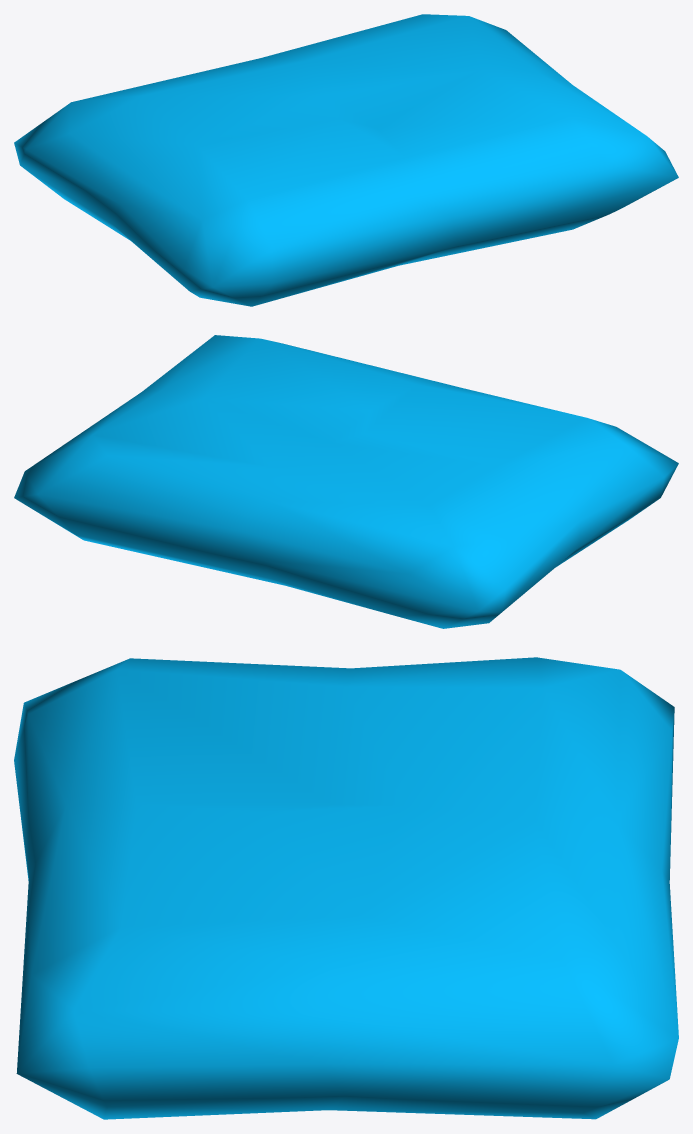
The model's file is UCX_Cushion.fbx.
3 views of the same model, one above another, from view 1: azimuth 30°, elevation 25°; view 2: azimuth 150°, elevation 25°; view 3: azimuth 270°, elevation 25° (orthographic). The views are drawn at different scales.
Parts seen in each view (by area): view 1: UCX_Cushion; view 2: UCX_Cushion; view 3: UCX_Cushion.
Part boxes in pixels (<box>): UCX_Cushion: <box>14,14,678,306</box>; UCX_Cushion: <box>14,335,678,628</box>; UCX_Cushion: <box>14,657,678,1119</box>.
Size of the model in its own units: 0.4094 by 0.087 by 0.3008.
